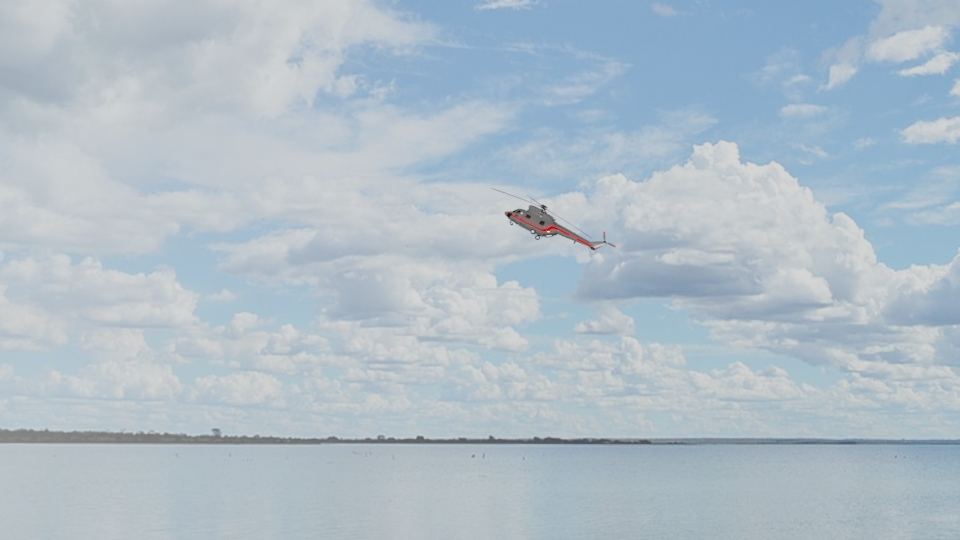heli: (501, 204, 617, 250)
